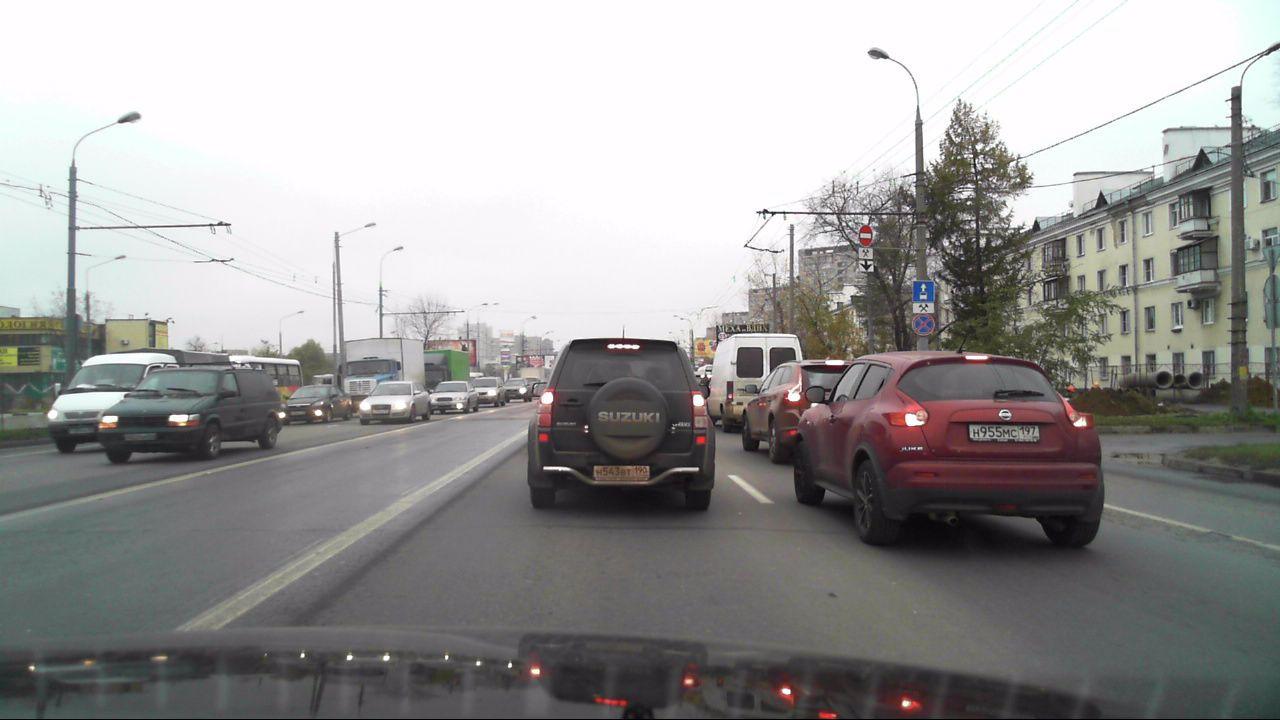No Parking: (911, 313, 935, 336)
